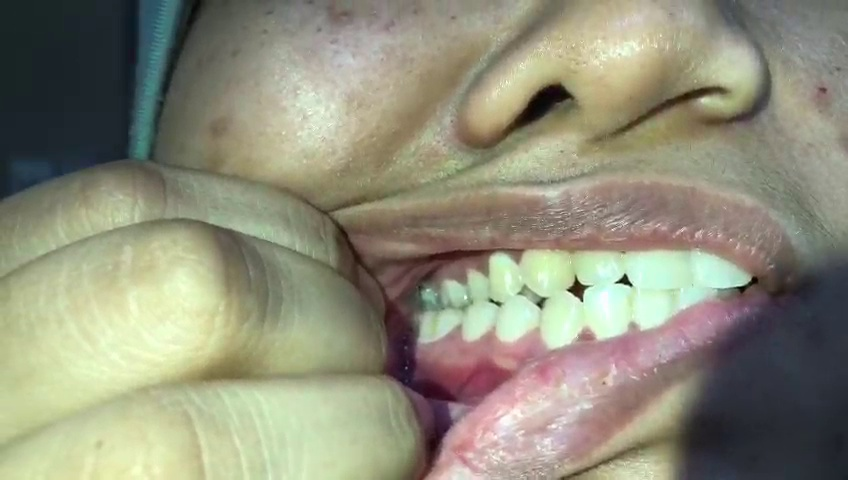1st Molar: (434, 306, 462, 349), (444, 278, 467, 309)
1st Premolar: (496, 297, 538, 344), (490, 254, 525, 304)
2nd Molar: (417, 307, 435, 349), (421, 281, 441, 310)
2nd Premolar: (464, 300, 498, 339), (464, 266, 491, 302)
Canine: (519, 241, 577, 297), (539, 288, 584, 347)
Lateral Incisor: (582, 283, 633, 342)
